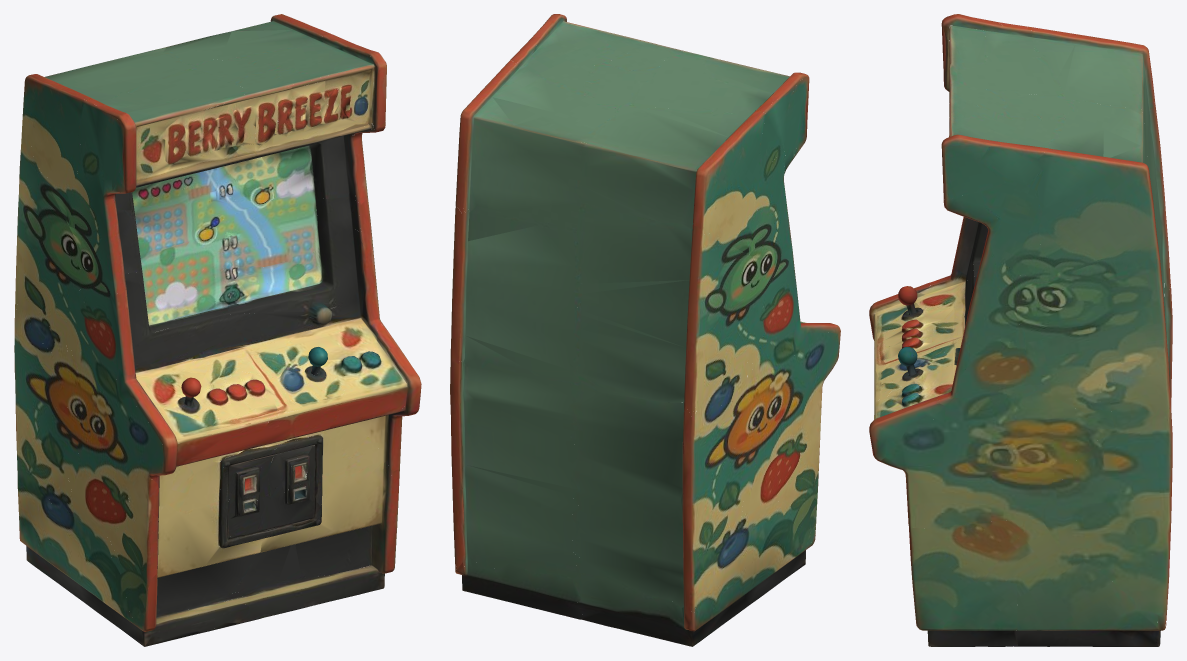
Rendered from cab_breeze.glb.
The picture shows the model from 3 angles, left to right: view 1: azimuth 30°, elevation 25°; view 2: azimuth 150°, elevation 25°; view 3: azimuth 270°, elevation 25°; orthographic projection. The views are drawn at different scales.
Visible parts, largest first — view 1: tripo_node_d0988c13-f28d-4962-83df-e1c6c0221aa1; view 2: tripo_node_d0988c13-f28d-4962-83df-e1c6c0221aa1; view 3: tripo_node_d0988c13-f28d-4962-83df-e1c6c0221aa1.
Part boxes in pixels (x1,y1,x2,y2): tripo_node_d0988c13-f28d-4962-83df-e1c6c0221aa1: (14,14,421,646); tripo_node_d0988c13-f28d-4962-83df-e1c6c0221aa1: (450,14,840,646); tripo_node_d0988c13-f28d-4962-83df-e1c6c0221aa1: (869,14,1172,646).
Size of the model in its own units: 0.5124 by 0.9787 by 0.524.
1 material, 1 textured.
